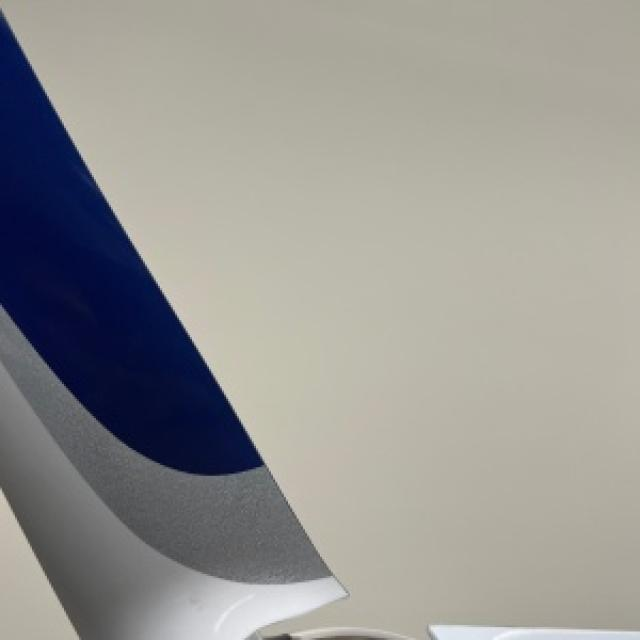healthy: (0, 0, 638, 638), (0, 497, 75, 638)
